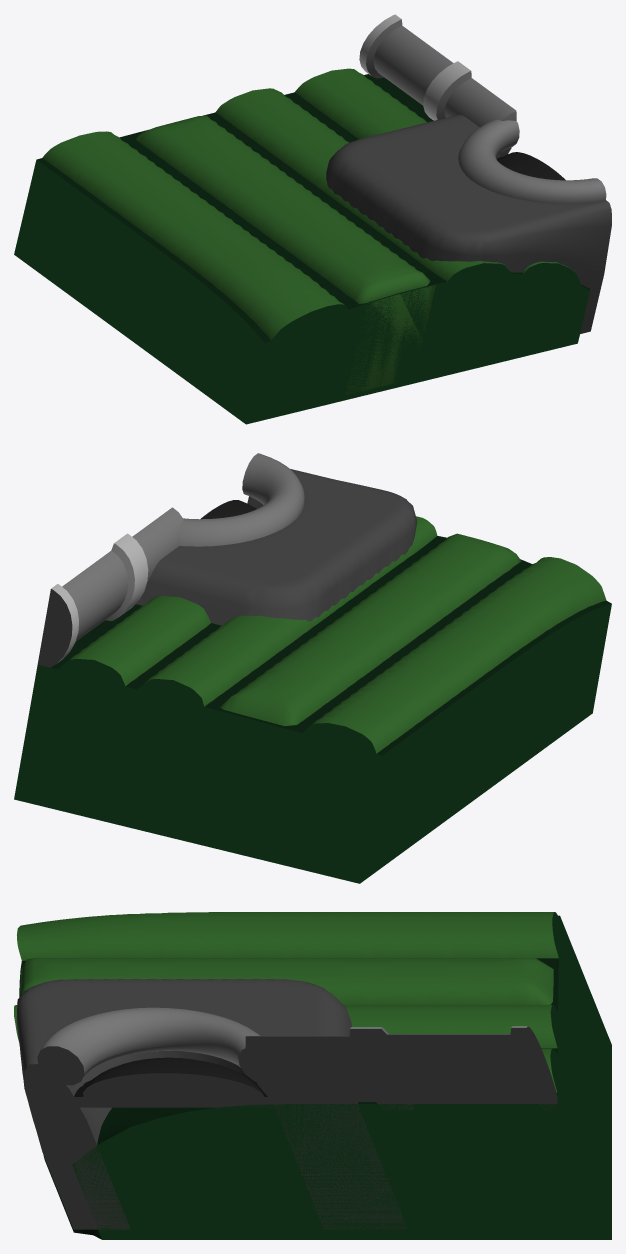
Rendered from green_shell_241.glb.
The picture shows the model from 3 angles, top to bottom: view 1: azimuth 30°, elevation 25°; view 2: azimuth 150°, elevation 25°; view 3: azimuth 270°, elevation 25°; orthographic projection. The views are drawn at different scales.
Visible parts, largest first — view 1: green_shell_241; view 2: green_shell_241; view 3: green_shell_241.
Part boxes in pixels (<box>): green_shell_241: <box>14,14,611,424</box>; green_shell_241: <box>14,453,611,883</box>; green_shell_241: <box>14,912,611,1239</box>.
Size of the model in its own units: 24 by 12.18 by 31.12.
